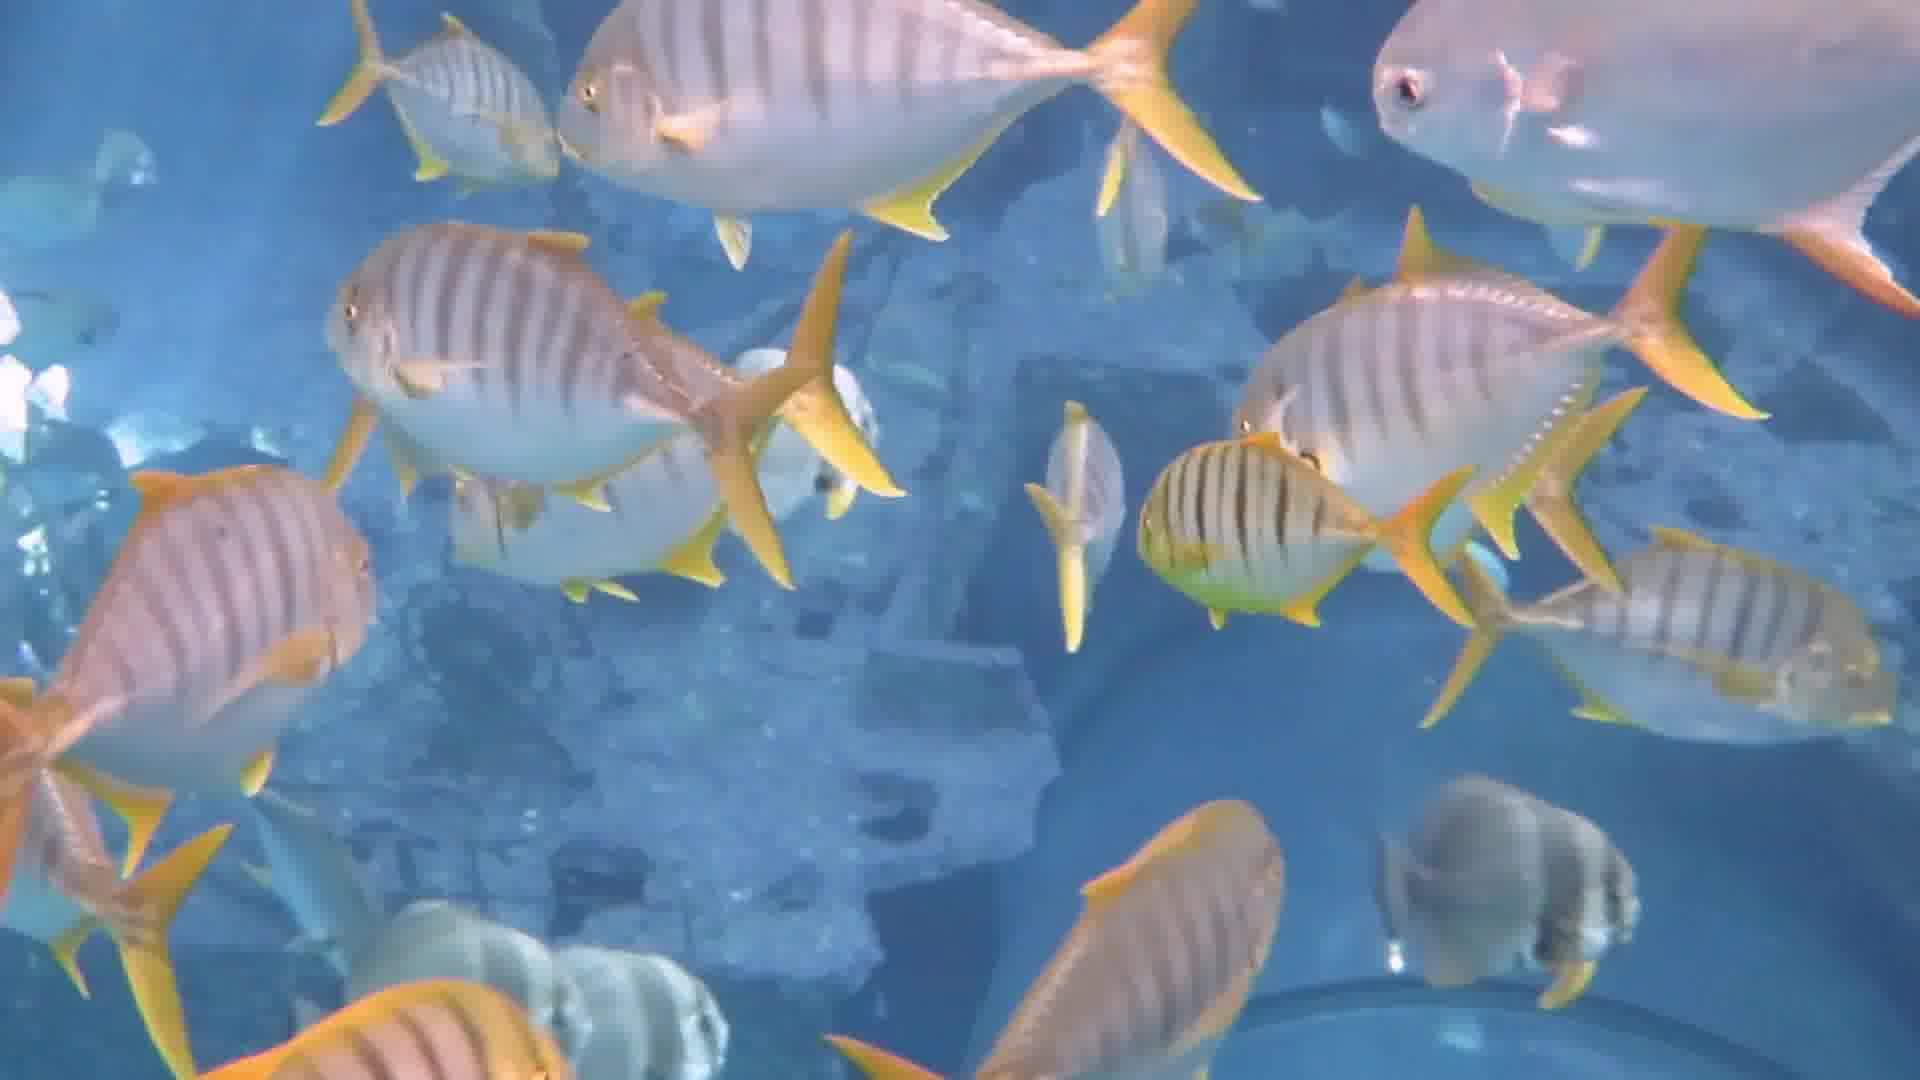Gnathanodon speciosus: (322, 245, 789, 510), (40, 477, 393, 819), (549, 24, 1176, 212), (1514, 551, 1894, 741), (1137, 430, 1428, 616)
